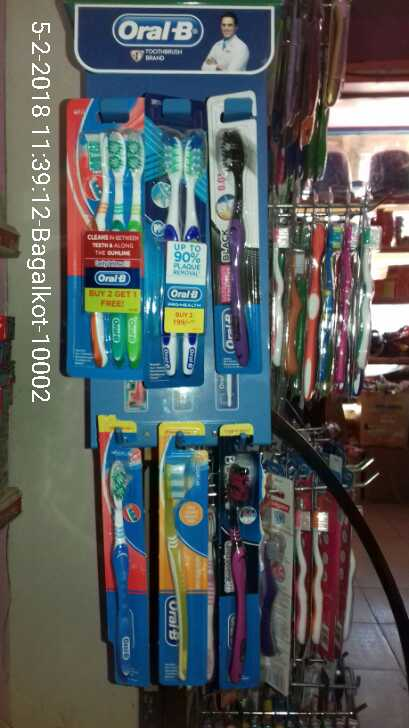oralb: (205, 118, 269, 386), (73, 130, 143, 375), (152, 131, 212, 396), (160, 437, 216, 689), (100, 438, 154, 690), (225, 450, 265, 690)
